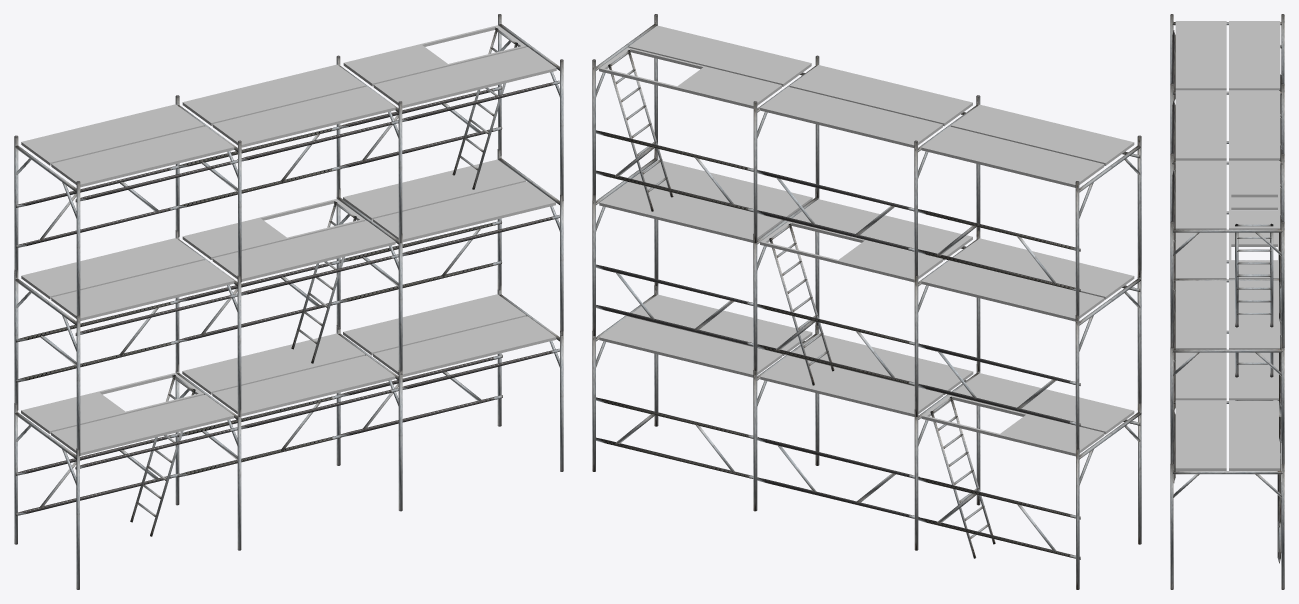
File: scaffolding_500.fbx
3 views of the same model, side by side, from view 1: azimuth 30°, elevation 25°; view 2: azimuth 150°, elevation 25°; view 3: azimuth 270°, elevation 25° (orthographic). The views are drawn at different scales.
Visible parts, largest first — view 1: floor700, frame700, ladders700; view 2: floor700, frame700, ladders700; view 3: floor700, frame700, ladders700.
Boxes of the visible parts, <box> form: floor700: <box>21,25,556,455</box>; frame700: <box>14,14,563,589</box>; ladders700: <box>130,28,517,536</box>; floor700: <box>599,25,1134,456</box>; frame700: <box>592,14,1141,589</box>; ladders700: <box>608,50,995,558</box>; floor700: <box>1175,21,1280,470</box>; frame700: <box>1170,14,1284,589</box>; ladders700: <box>1235,223,1273,400</box>.
Size of the model in its own units: 15 by 12.13 by 3.41.
